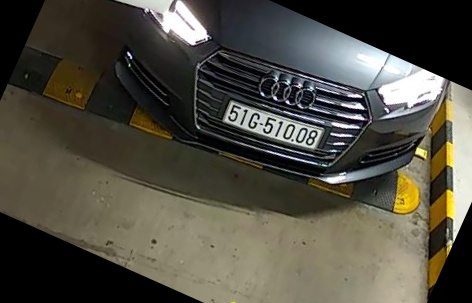plate: (225, 98, 323, 156)
